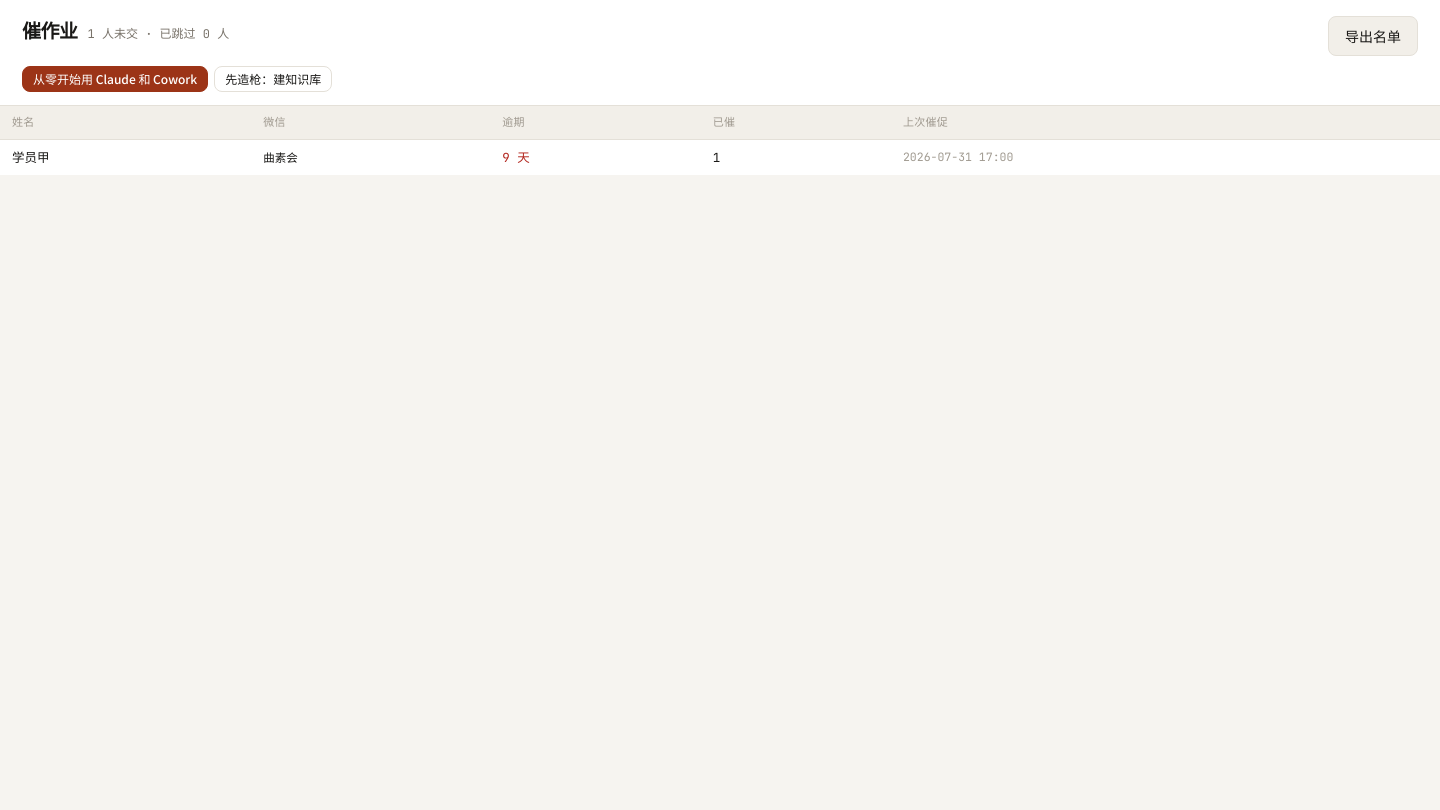
Test: 文案模板 tab › 已催 1 次默认选中第二次提醒
Click the row with test id "nudge-alpha@example.com": (720, 157) top-left (0, 139), bottom-right (1439, 175)
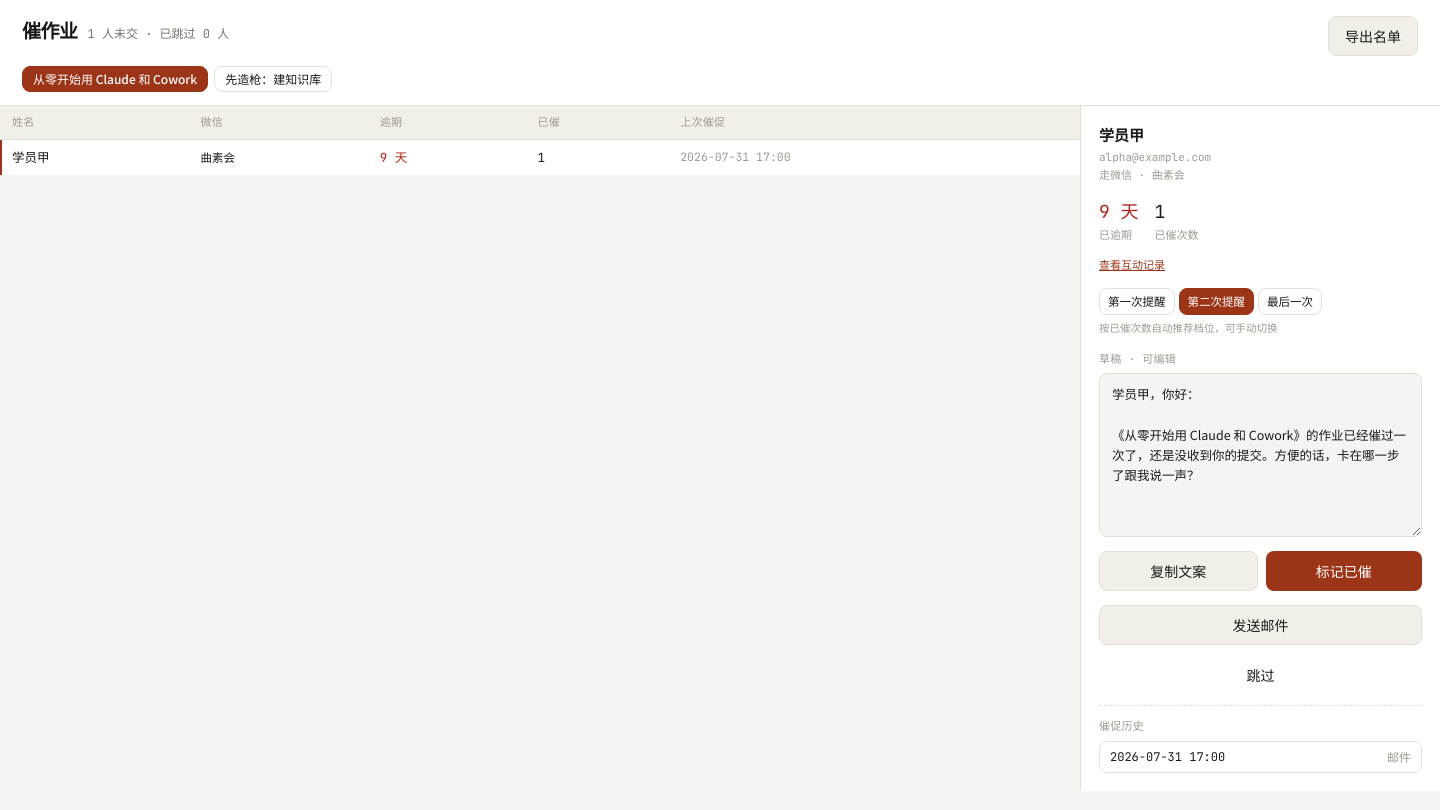
Result: the tab "第二次提醒" is shown at top-left (1178, 288), bottom-right (1254, 315)
